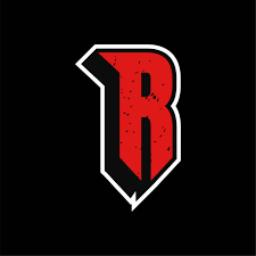r: (72, 36, 188, 216)
